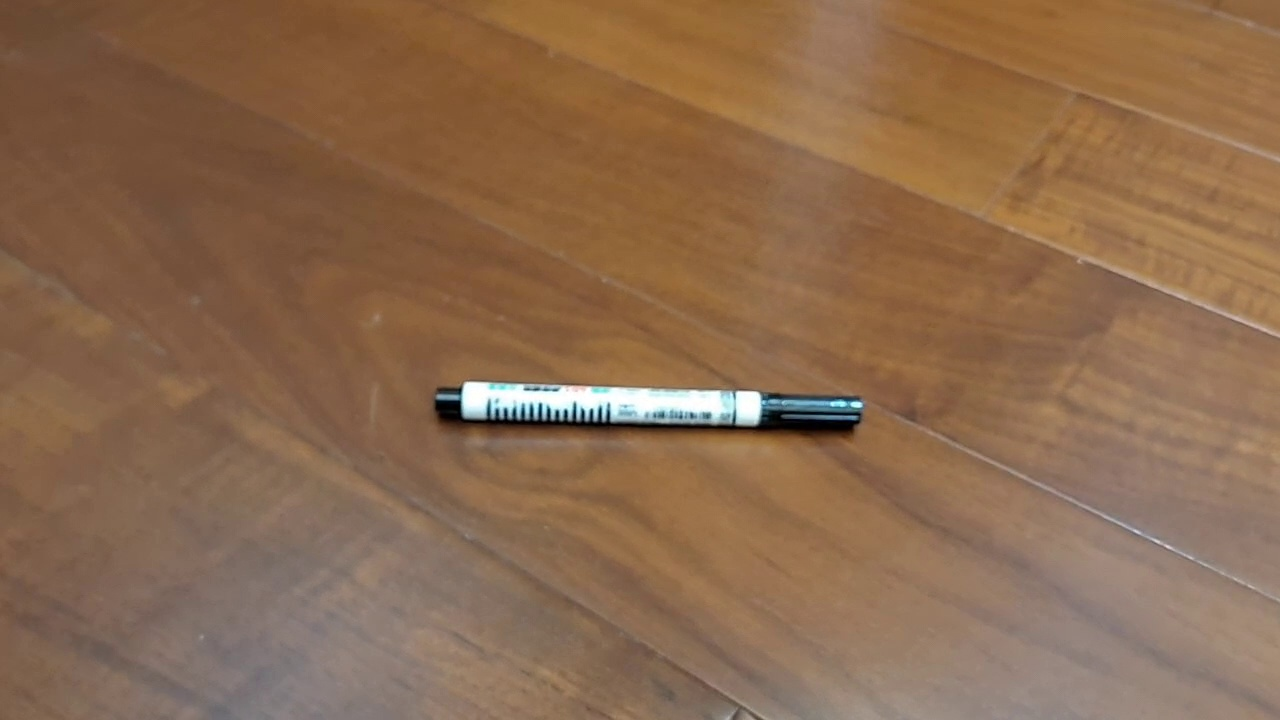pen: (434, 380, 865, 432)
